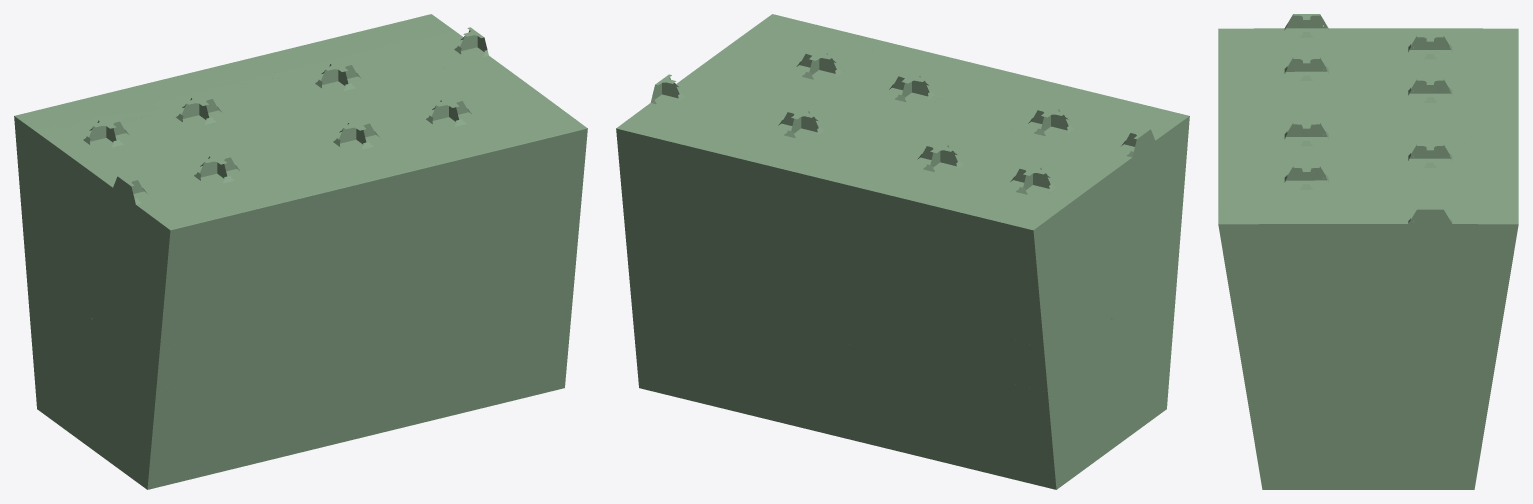
The model's file is NO_2_CENTRAL_CARGO_OIL_TK.glb.
The picture shows the model from 3 angles, left to right: view 1: azimuth 30°, elevation 25°; view 2: azimuth 150°, elevation 25°; view 3: azimuth 270°, elevation 25°; orthographic projection. The views are drawn at different scales.
Visible parts, largest first — view 1: PL_LBHDxNo2CenterTankS_026003-19.5_NVA36_1993, PL_LBHDxNo2CenterTankS_013005-19.5_NVA36_1993, PL_LBHDxNo2CenterTankS_021002-17.5_NVA32_1993, PL_LBHDxNo2CenterTankS_020002-17.5_NVA36_1993, PL_LBHDxNo2CenterTankS_014005-17.5_NVA32_1993, PL_LBHDxNo2CenterTankS_013003-19.5_NVA36_1993, PL_LBHDxNo2CenterTankS_022003-17_NVA32_1993, PL_LBHDxNo2CenterTankS_017003-15_NVA32_1993, PL_LBHDxNo2CenterTankS_015009-17_NVA32_1993, PL_LBHDxNo2CenterTankS_026002-19.5_NVA36_1993, PL_LBHDxNo2CenterTankS_014003-17.5_NVA32_1993, PL_LBHDxNo2CenterTankS_013004-19.5_NVA36_1993 (+121 smaller); view 2: PL_LBHDxNo2CenterTankP_026003-19.5_NVA36_1993, PL_LBHDxNo2CenterTankP_013005-19.5_NVA36_1993, PL_LBHDxNo2CenterTankP_021002-17.5_NVA32_1993, PL_LBHDxNo2CenterTankP_020002-17.5_NVA36_1993, PL_LBHDxNo2CenterTankP_014005-17.5_NVA32_1993, PL_LBHDxNo2CenterTankP_013003-19.5_NVA36_1993, PL_LBHDxNo2CenterTankP_022003-17_NVA32_1993, PL_LBHDxNo2CenterTankP_017003-15_NVA32_1993, PL_LBHDxNo2CenterTankP_015009-17_NVA32_1993, PL_LBHDxNo2CenterTankP_026002-19.5_NVA36_1993, PL_LBHDxNo2CenterTankP_014003-17.5_NVA32_1993, PL_LBHDxNo2CenterTankP_013004-19.5_NVA36_1993 (+120 smaller); view 3: PL_TransBHDxBHD90P_013001-19.5_NVA32_1993, PL_TransBHDxBHD90P_008001-14.5_NVA32_1993, PL_TransBHDxBHD90P_010001-17_NVA32_1993, PL_TransBHDxBHD90S_027002-13_NVA_1993, PL_TransBHDxBHD90S_018002-19.5_NVA32_1993, PL_TransBHDxBHD90P_016001-13_NVA_1993, PL_TransBHDxBHD90S_027001-13_NVA_1993, PL_TransBHDxBHD90S_019002-18.5_NVA32_1993, PL_TransBHDxBHD90S_022002-14.5_NVA32_1993, PL_TransBHDxBHD90P_012001-18.5_NVA32_1993, PL_TransBHDxBHD90S_020002-17_NVA32_1993, PL_TransBHDxBHD90P_009003-15.5_NVA32_1993 (+131 smaller).
Boxes of the visible parts, box(x1,y1,x2,y2) form: PL_LBHDxNo2CenterTankS_026003-19.5_NVA36_1993: box(212, 428, 268, 473); PL_LBHDxNo2CenterTankS_013005-19.5_NVA36_1993: box(453, 370, 508, 414); PL_LBHDxNo2CenterTankS_021002-17.5_NVA32_1993: box(215, 397, 271, 441); PL_LBHDxNo2CenterTankS_020002-17.5_NVA36_1993: box(286, 188, 342, 231); PL_LBHDxNo2CenterTankS_014005-17.5_NVA32_1993: box(456, 339, 510, 382); PL_LBHDxNo2CenterTankS_013003-19.5_NVA36_1993: box(361, 393, 411, 437); PL_LBHDxNo2CenterTankS_022003-17_NVA32_1993: box(218, 362, 274, 404); PL_LBHDxNo2CenterTankS_017003-15_NVA32_1993: box(373, 263, 423, 306); PL_LBHDxNo2CenterTankS_015009-17_NVA32_1993: box(460, 304, 514, 345); PL_LBHDxNo2CenterTankS_026002-19.5_NVA36_1993: box(166, 441, 215, 484); PL_LBHDxNo2CenterTankS_014003-17.5_NVA32_1993: box(364, 362, 414, 404); PL_LBHDxNo2CenterTankS_013004-19.5_NVA36_1993: box(409, 382, 456, 425); PL_LBHDxNo2CenterTankP_026003-19.5_NVA36_1993: box(935, 428, 991, 473); PL_LBHDxNo2CenterTankP_013005-19.5_NVA36_1993: box(695, 370, 750, 414); PL_LBHDxNo2CenterTankP_021002-17.5_NVA32_1993: box(932, 397, 988, 441); PL_LBHDxNo2CenterTankP_020002-17.5_NVA36_1993: box(861, 188, 917, 231); PL_LBHDxNo2CenterTankP_014005-17.5_NVA32_1993: box(693, 339, 747, 382); PL_LBHDxNo2CenterTankP_013003-19.5_NVA36_1993: box(792, 393, 842, 437); PL_LBHDxNo2CenterTankP_022003-17_NVA32_1993: box(929, 362, 985, 404); PL_LBHDxNo2CenterTankP_017003-15_NVA32_1993: box(780, 263, 830, 306); PL_LBHDxNo2CenterTankP_015009-17_NVA32_1993: box(689, 304, 743, 345); PL_LBHDxNo2CenterTankP_026002-19.5_NVA36_1993: box(988, 441, 1037, 484); PL_LBHDxNo2CenterTankP_014003-17.5_NVA32_1993: box(789, 362, 839, 404); PL_LBHDxNo2CenterTankP_013004-19.5_NVA36_1993: box(747, 382, 794, 425); PL_TransBHDxBHD90P_013001-19.5_NVA32_1993: box(1368, 456, 1445, 489); PL_TransBHDxBHD90P_008001-14.5_NVA32_1993: box(1368, 324, 1445, 355); PL_TransBHDxBHD90P_010001-17_NVA32_1993: box(1368, 388, 1445, 418); PL_TransBHDxBHD90S_027002-13_NVA_1993: box(1291, 224, 1368, 255); PL_TransBHDxBHD90S_018002-19.5_NVA32_1993: box(1291, 456, 1355, 489); PL_TransBHDxBHD90P_016001-13_NVA_1993: box(1368, 224, 1445, 255); PL_TransBHDxBHD90S_027001-13_NVA_1993: box(1223, 224, 1290, 255); PL_TransBHDxBHD90S_019002-18.5_NVA32_1993: box(1291, 425, 1355, 456); PL_TransBHDxBHD90S_022002-14.5_NVA32_1993: box(1291, 324, 1355, 355); PL_TransBHDxBHD90P_012001-18.5_NVA32_1993: box(1383, 425, 1445, 456); PL_TransBHDxBHD90S_020002-17_NVA32_1993: box(1291, 388, 1355, 418); PL_TransBHDxBHD90P_009003-15.5_NVA32_1993: box(1368, 364, 1445, 388).
Bounding box in the file's own units: 47.23 × 31.5 × 30.6.
